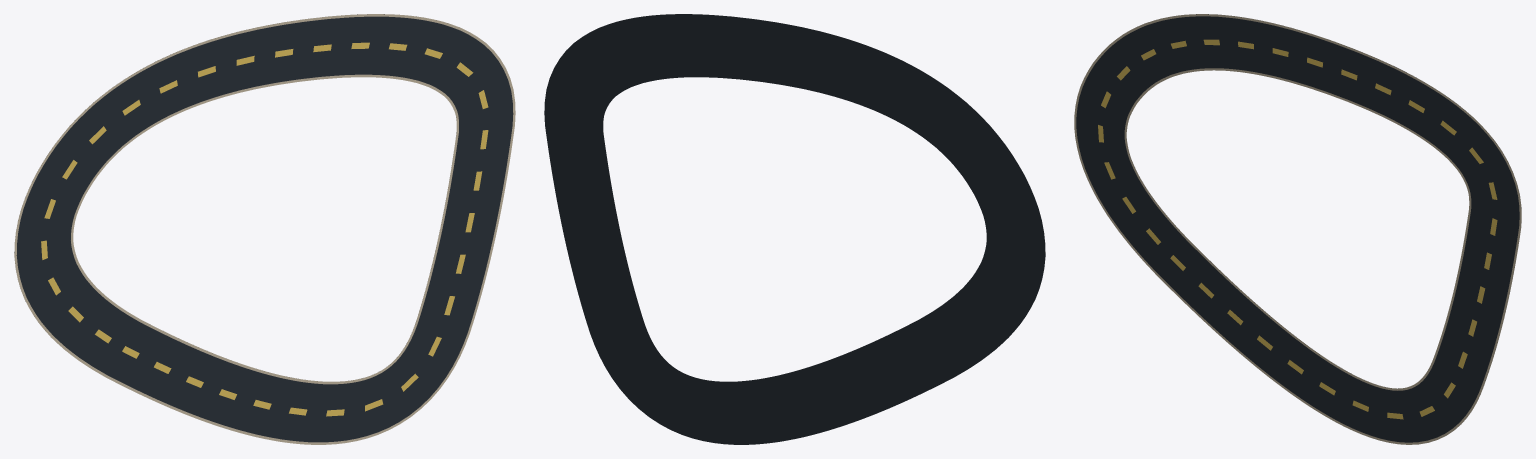
The model's file is track.obj.
3 renders of one model, left to right at view 1: azimuth 30°, elevation 25°; view 2: azimuth 150°, elevation 25°; view 3: azimuth 330°, elevation 25°, orthographic. The views are drawn at different scales.
Size of the model in its own units: 8.43 by 7.04 by 0.002.
3 materials, 3 textured.
